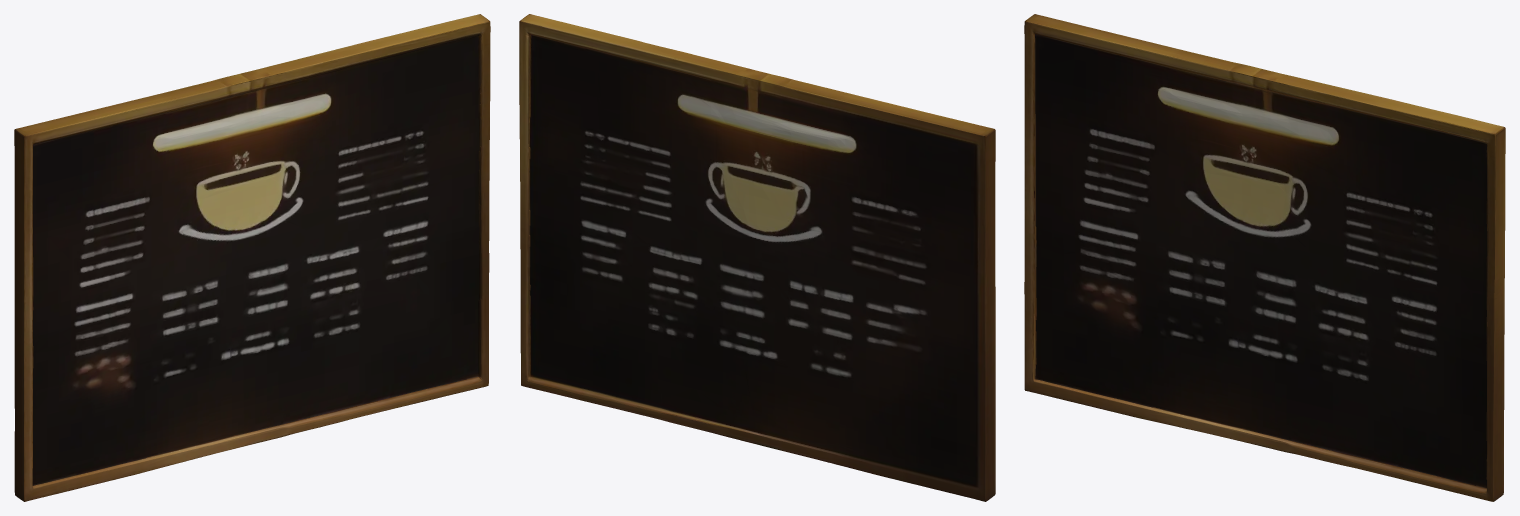
3 renders of one model, left to right at view 1: azimuth 30°, elevation 25°; view 2: azimuth 150°, elevation 25°; view 3: azimuth 330°, elevation 25°, orthographic.
Parts seen in each view (by area): view 1: geometry_0; view 2: geometry_0; view 3: geometry_0.
Part boxes in pixels (x1,y1,x2,y2): geometry_0: (14, 14, 490, 501); geometry_0: (519, 14, 995, 501); geometry_0: (1024, 14, 1505, 501).
Bounding box in the file's own units: 1 × 0.7539 × 0.0407.
Materials: 1 (1 with a texture image).
